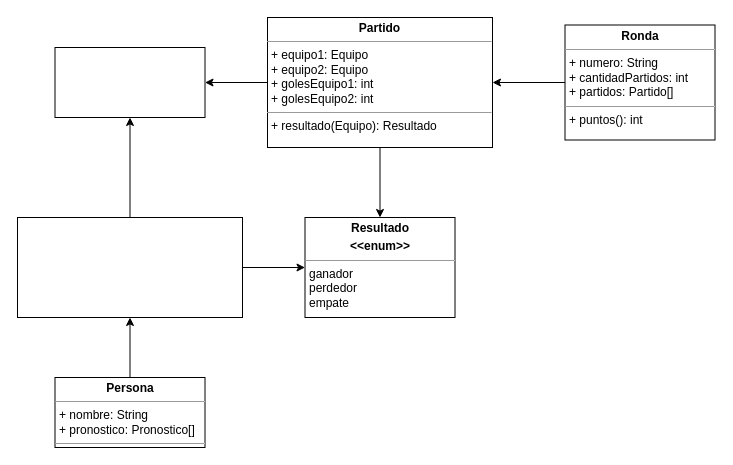
This 733x465 diagram has some shape labels left out. Here are the shapes that lost their labels. From the top down, the box of each, then its label:
(54, 46, 205, 118): Equipo + nombre: String + descripcion: String
(16, 216, 242, 318): Pronostico + equipo: Equipo[] + resultado: Resultado[] + puntos(): int
